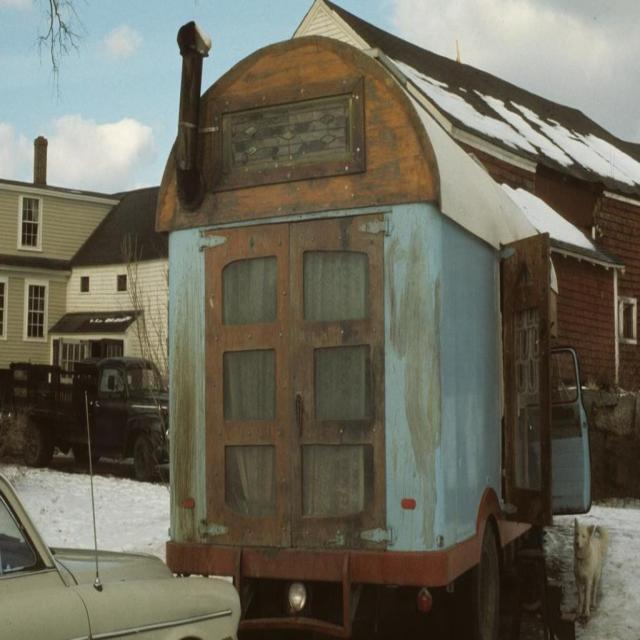car: (44, 351, 164, 482)
